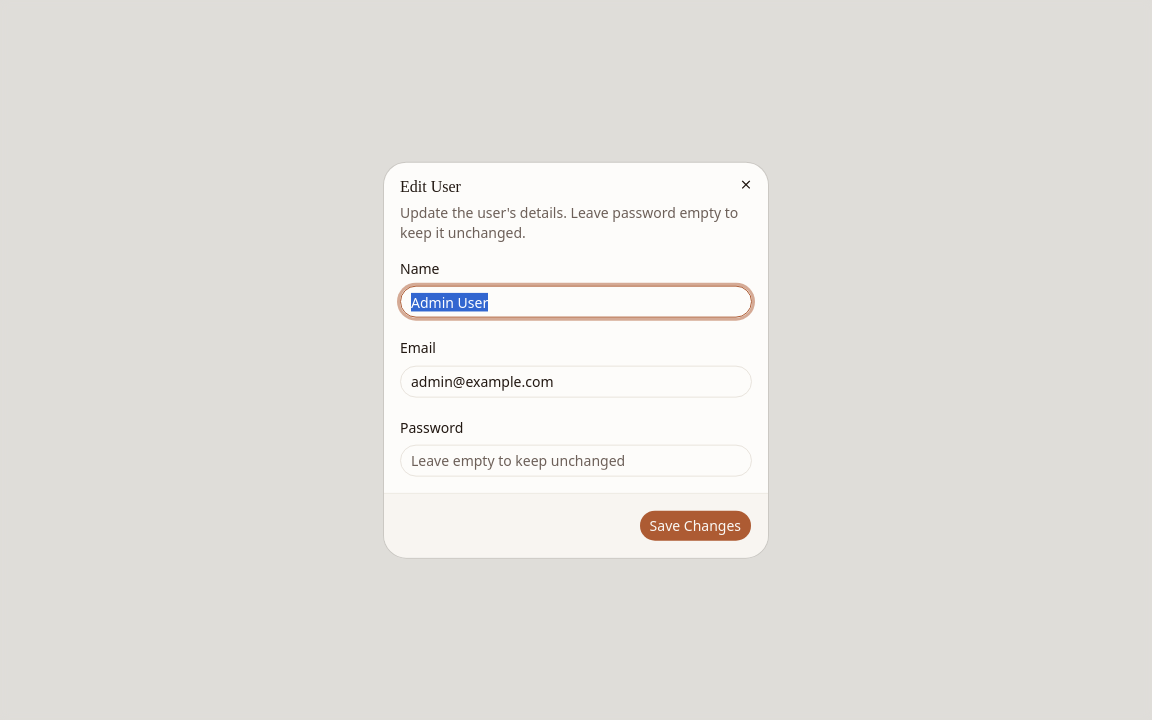
Scenario: UserFormDialog — edit mode › shows validation error for short password when provided
Type "short" into the password field labelled "Password".
click(576, 460); type("short")  # box [400,444,752,476]
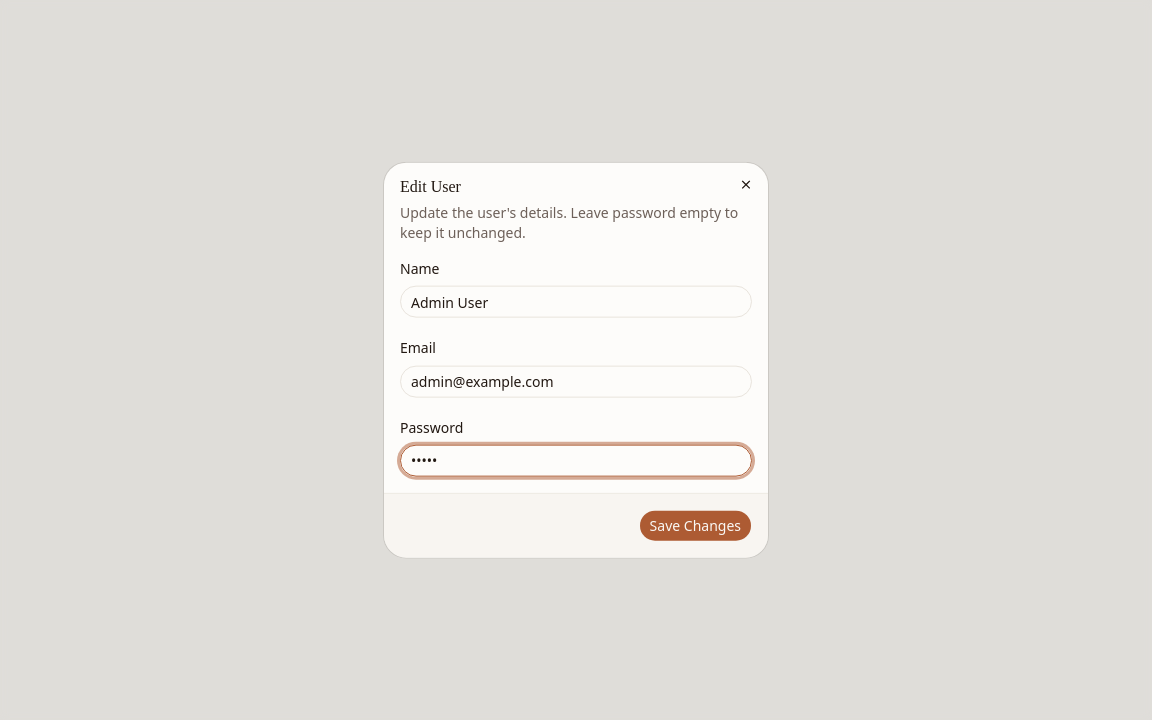
Click the button "Save Changes".
click(695, 525)  # box [639,509,752,541]
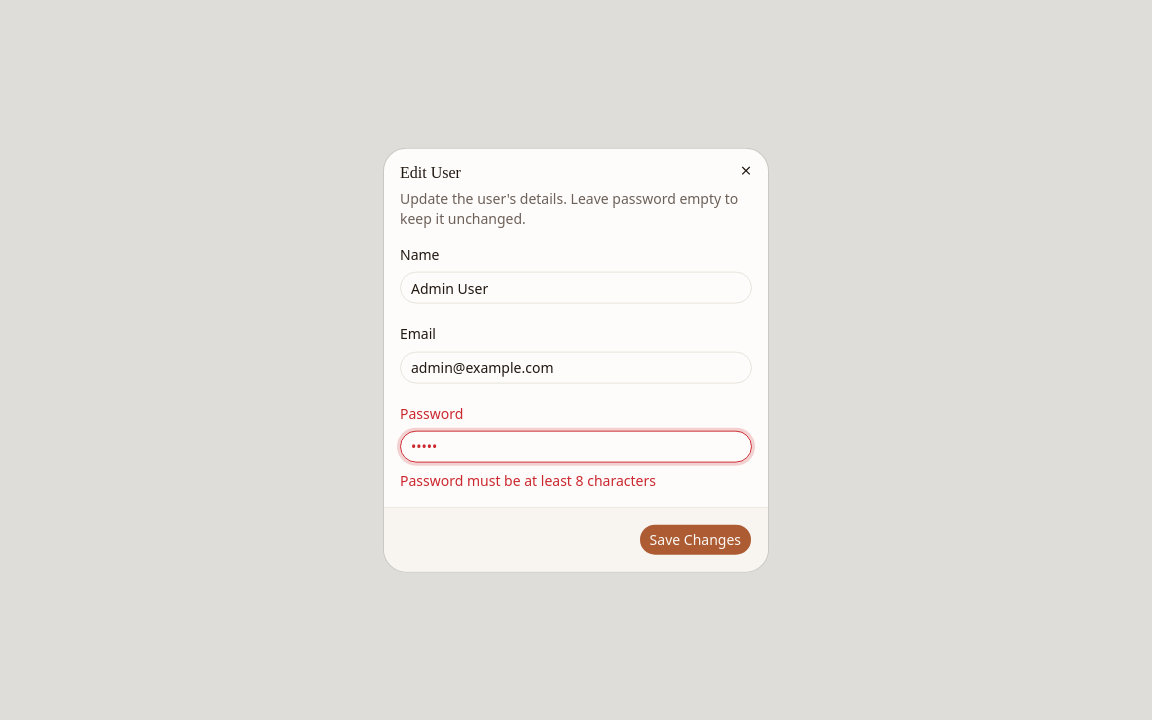
Expected: the text "Password must be at least 8 characters" is shown, [400,470,656,489]
